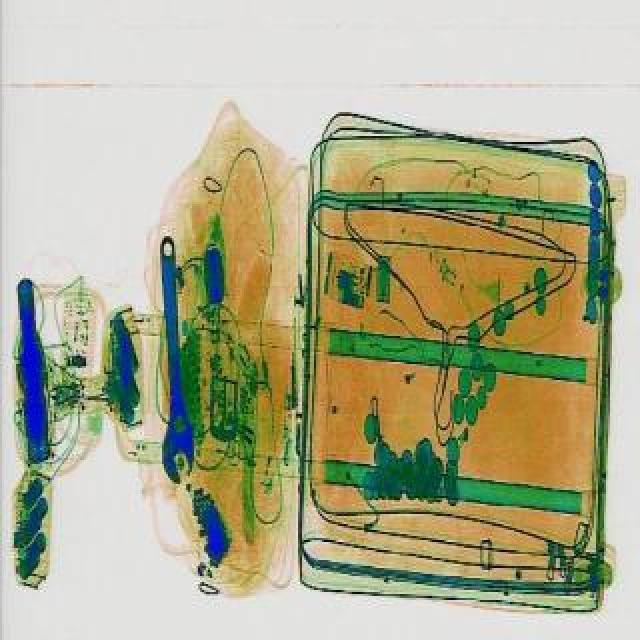scissors: (144, 234, 198, 482)
